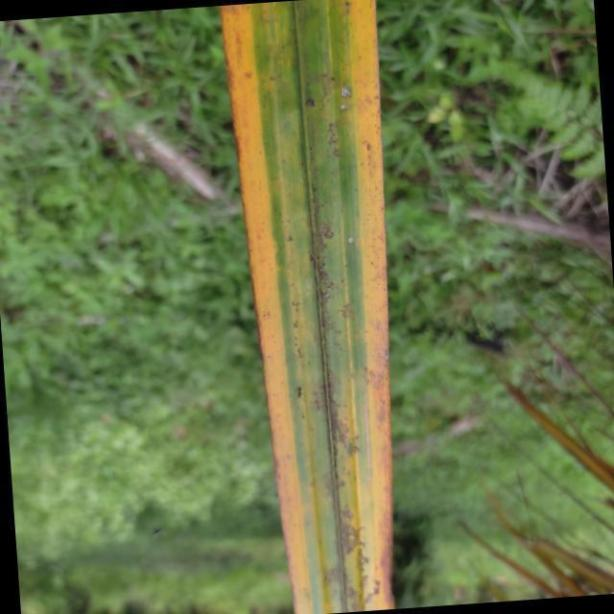Megnesium: (216, 0, 395, 614)
